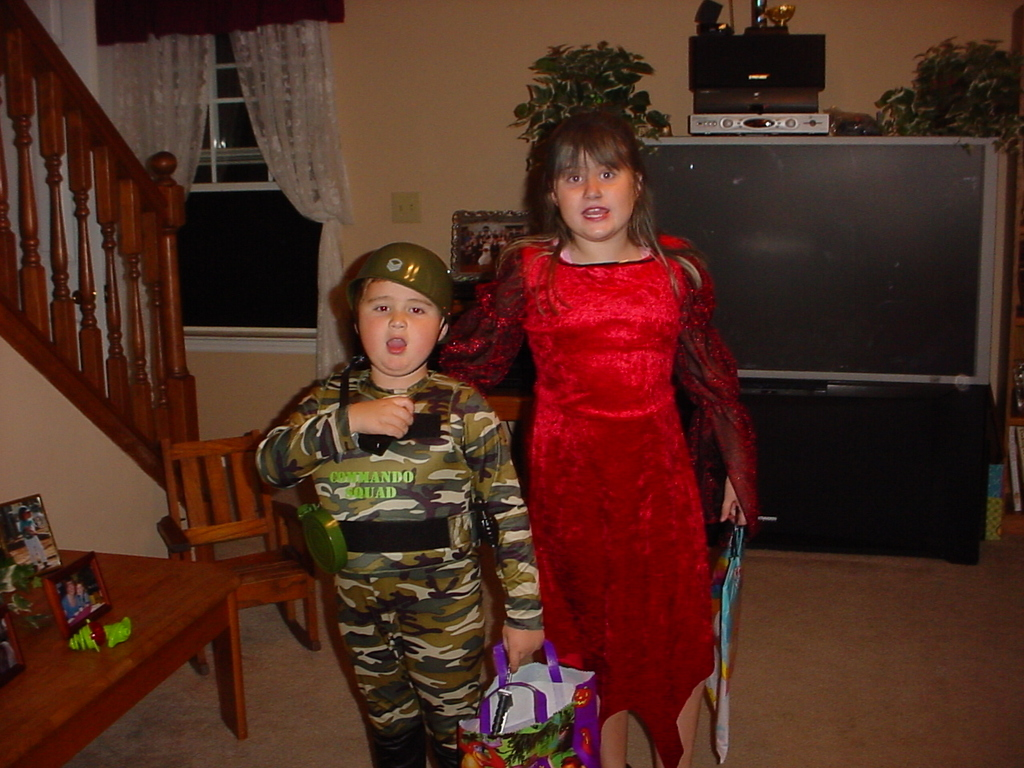Human-face: (359, 283, 443, 377), (557, 153, 635, 238)
